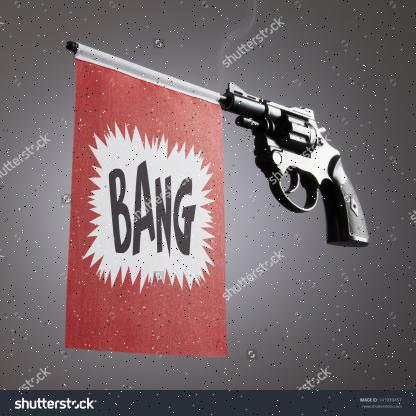pistol: (218, 82, 369, 249)
